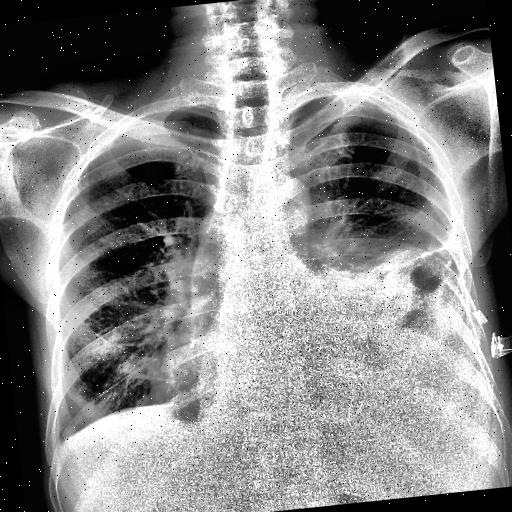0- Aortic enlargement: (248, 168, 314, 234)
10- Pleural effusion: (289, 233, 478, 415), (304, 283, 486, 431), (310, 294, 487, 406)
11- Pleural thickening: (286, 90, 374, 117), (50, 436, 66, 458)
13- Pulmonary fibrosis: (312, 230, 468, 348), (387, 242, 455, 275), (396, 246, 448, 264)
4- Consolidation: (309, 224, 464, 354)
7- Lung Opacity: (309, 224, 464, 354), (312, 230, 468, 348)
